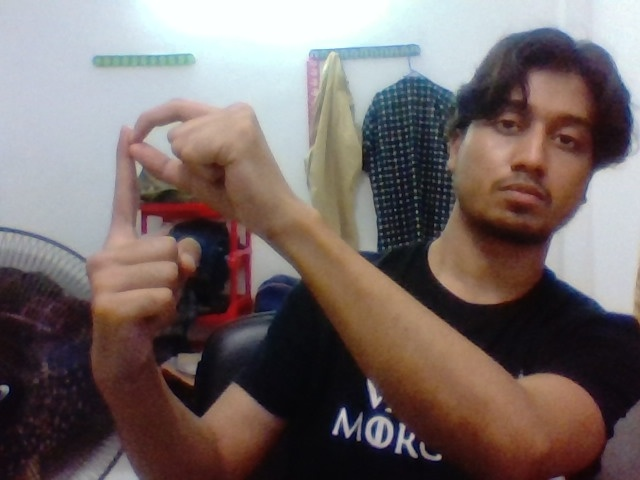P: (92, 85, 335, 350)
